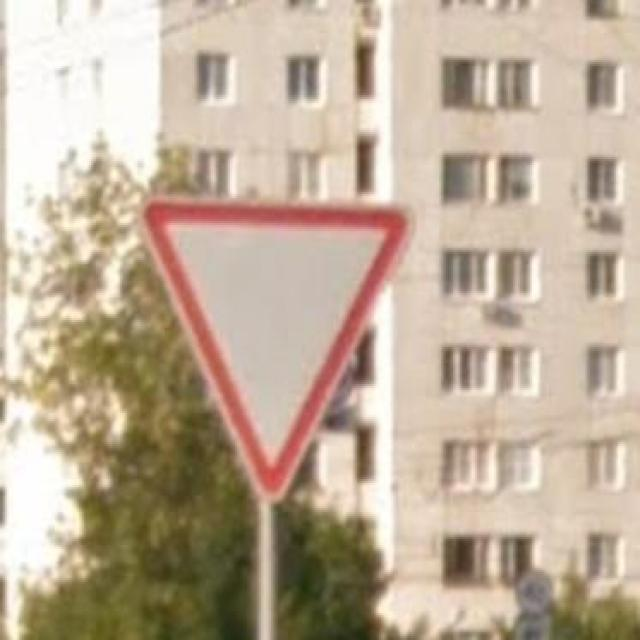Ustap pierwszenstwa: (136, 188, 415, 508)
